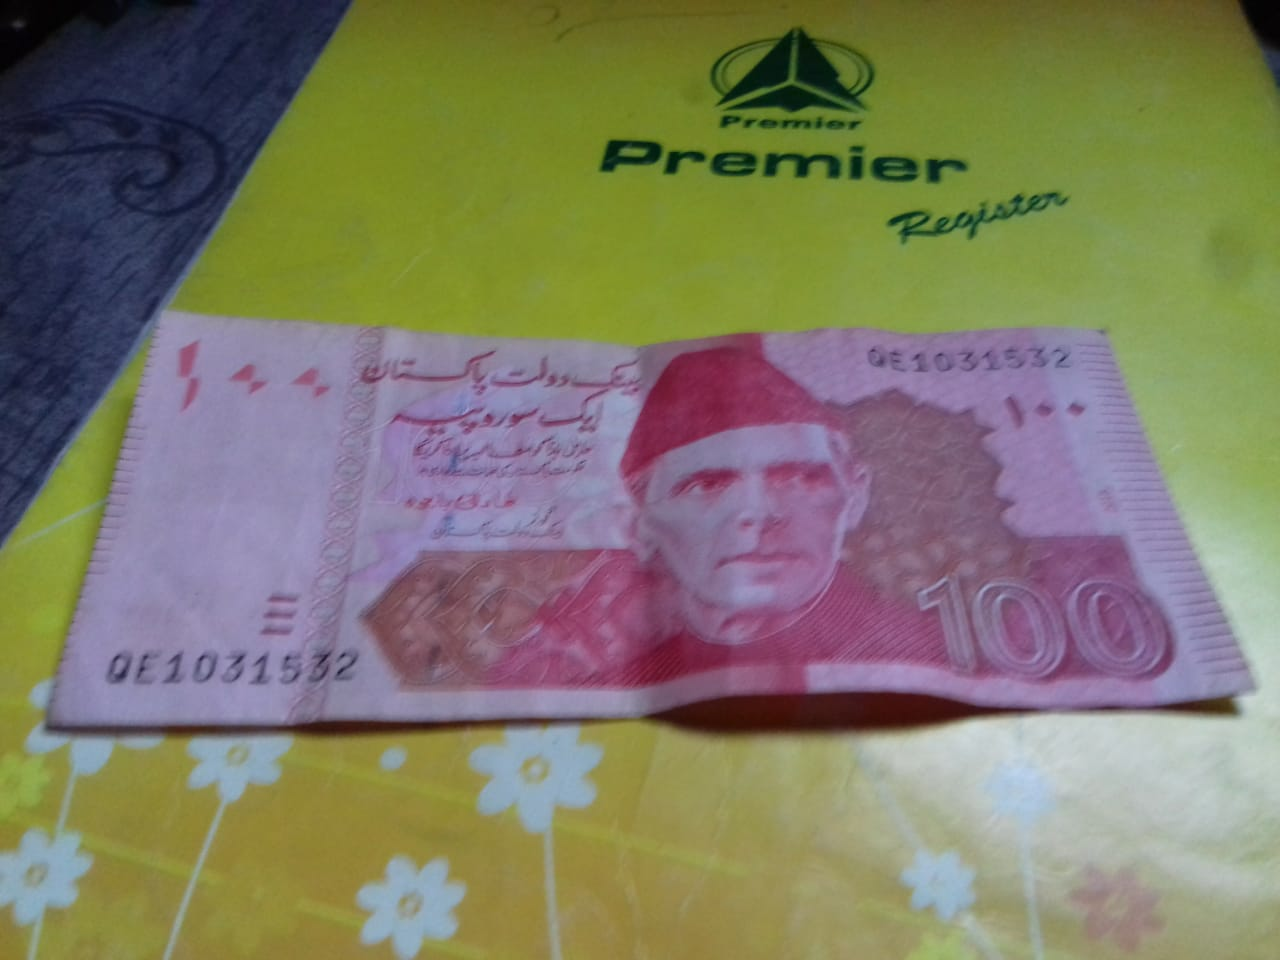100 rupee: (31, 290, 1226, 754)
